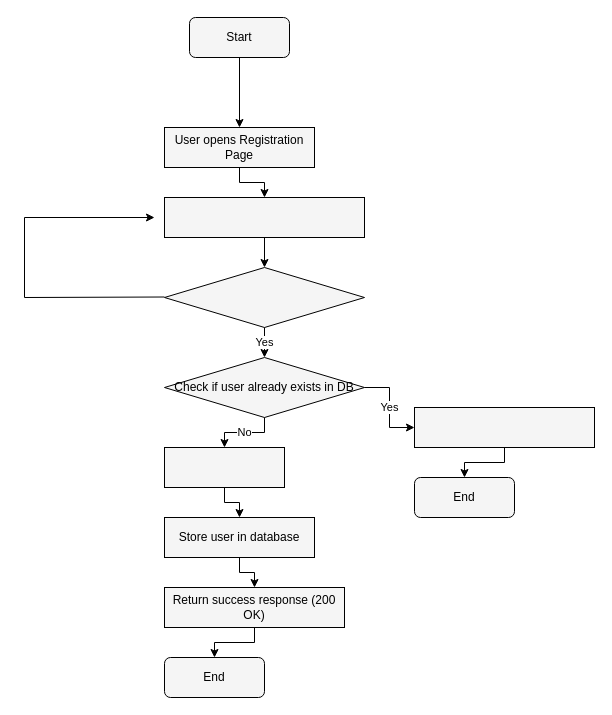
The diagram is 612 pixels wide and 715 high, and some of its shapes have lost their labels. Each missing label, with the centre of its shape:
"Hash password" goes at point (224, 467).
"Return error: User already exists" goes at point (504, 427).
"System validates input (e.g., is email valid? are required fields filled?)" goes at point (264, 297).
"User enters email, password, and other details" goes at point (264, 217).
